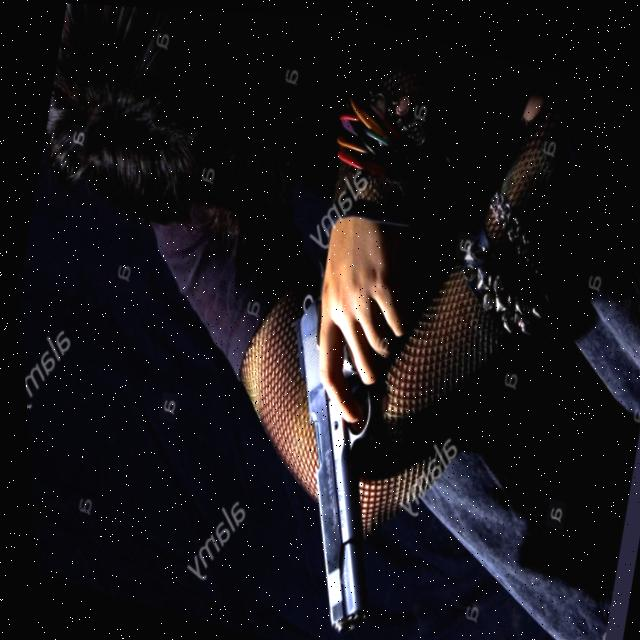pistol: (225, 286, 426, 640)
